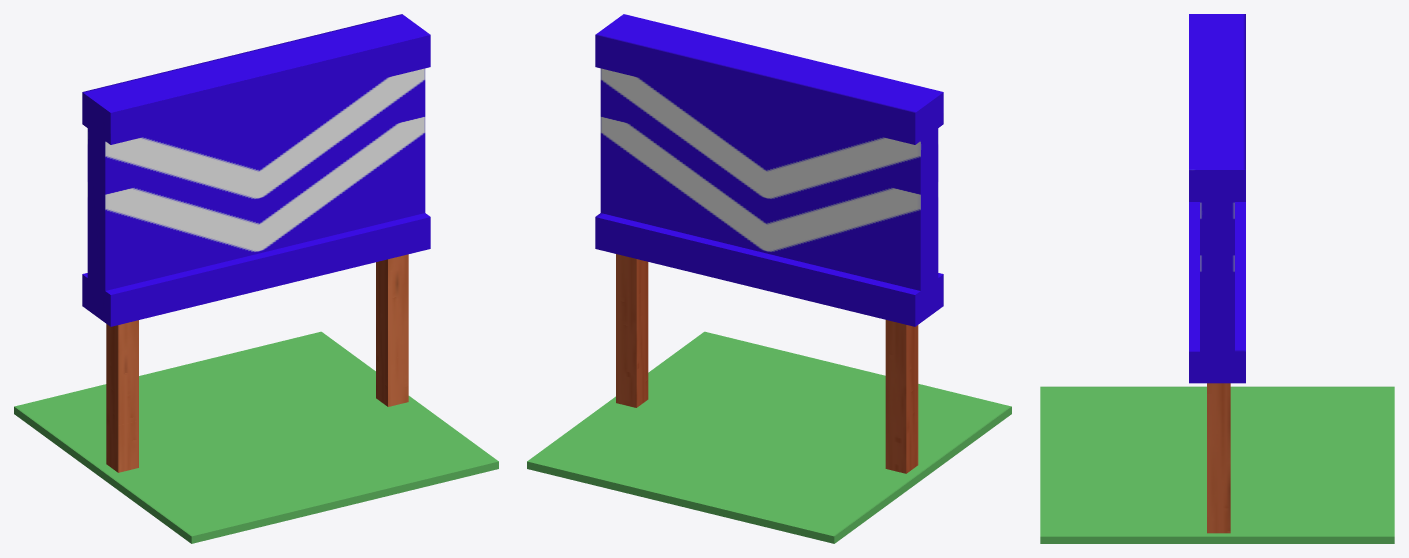
Rendered from Duck.glb.
3 views of the same model, side by side, from view 1: azimuth 30°, elevation 25°; view 2: azimuth 150°, elevation 25°; view 3: azimuth 270°, elevation 25° (orthographic).
Parts seen in each view (by area): view 1: Cube.037; view 2: Cube.037; view 3: Cube.037.
Part boxes in pixels (x1=…): Cube.037: x1=14, y1=14, x2=498, y2=543; Cube.037: x1=527, y1=14, x2=1011, y2=543; Cube.037: x1=1040, y1=14, x2=1394, y2=543.
Bounding box in the file's own units: 2.66 × 3 × 2.55.
Materials: 1 (1 with a texture image).
